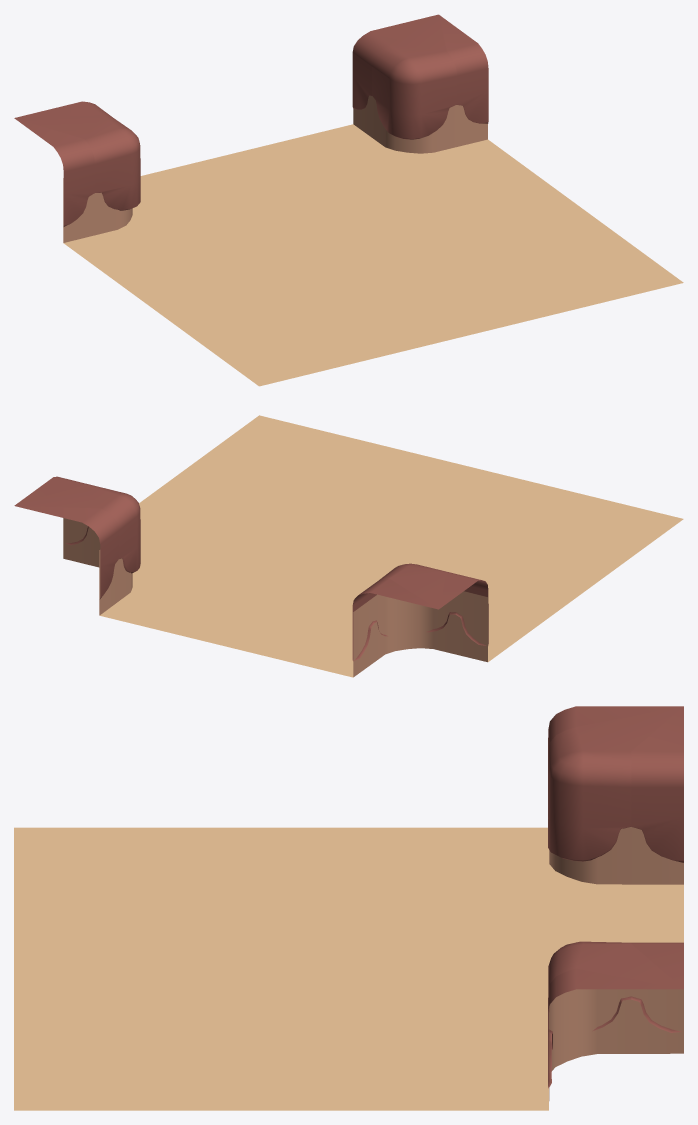
The model's file is SM_Tile_Tips_Straight.fbx.
3 views of the same model, one above another, from view 1: azimuth 30°, elevation 25°; view 2: azimuth 150°, elevation 25°; view 3: azimuth 270°, elevation 25° (orthographic). The views are drawn at different scales.
Parts seen in each view (by area): view 1: SM_Tile_Tips_Straight; view 2: SM_Tile_Tips_Straight; view 3: SM_Tile_Tips_Straight.
Part boxes in pixels (bbox=[...]): SM_Tile_Tips_Straight: bbox=[14, 14, 683, 386]; SM_Tile_Tips_Straight: bbox=[14, 415, 683, 677]; SM_Tile_Tips_Straight: bbox=[14, 706, 683, 1110].
Size of the model in its own units: 446 by 89.16 by 446.
